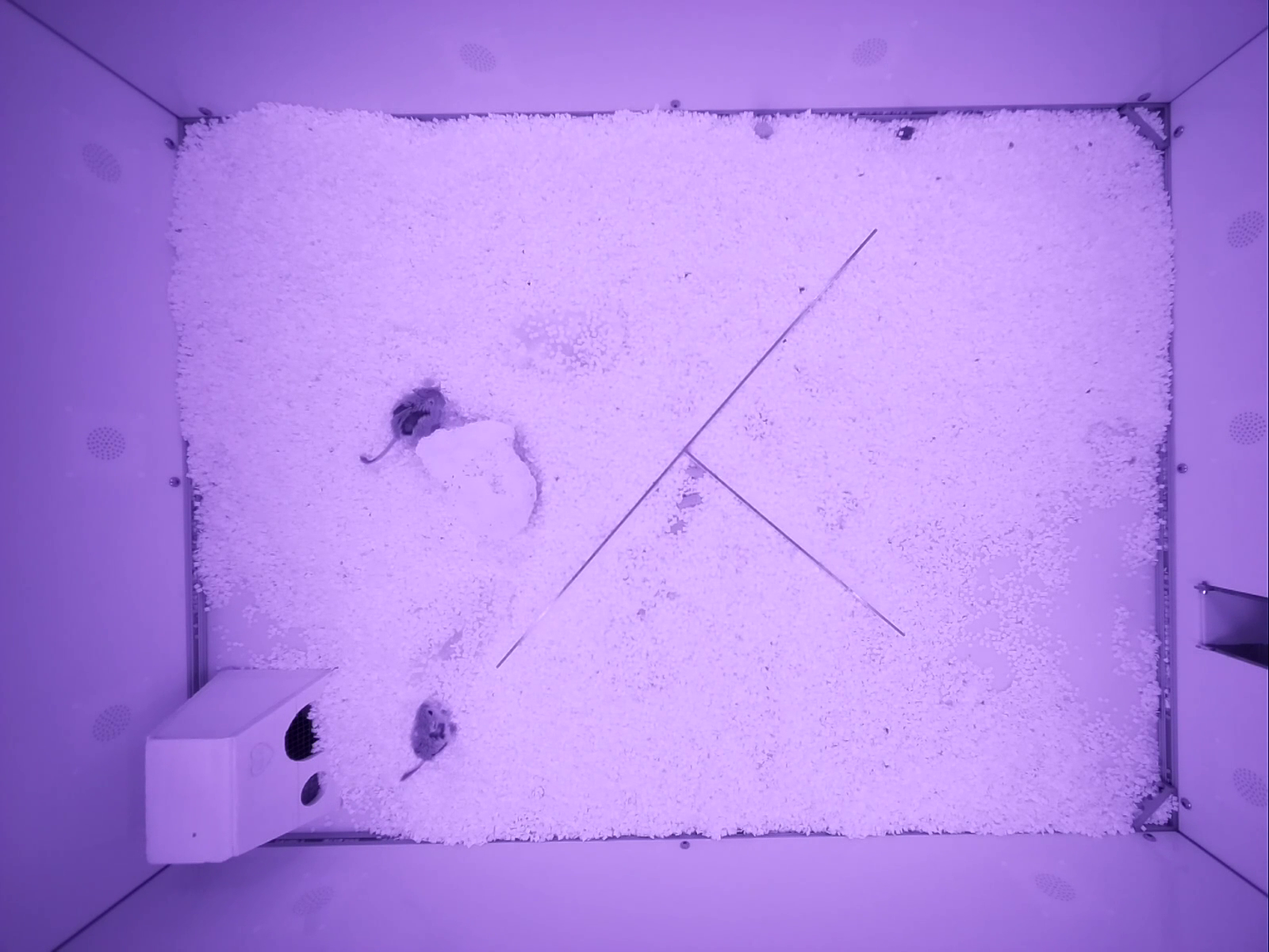adult_back: (360, 386, 445, 463), (401, 700, 454, 780)
